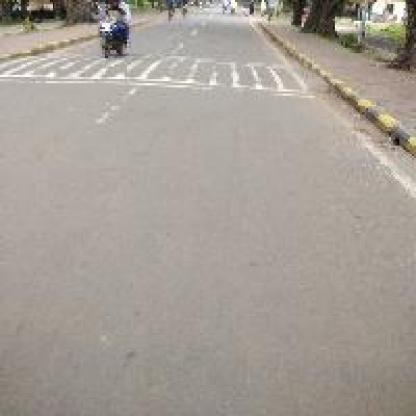Speed Bump: (123, 50, 312, 100), (0, 48, 83, 83)
